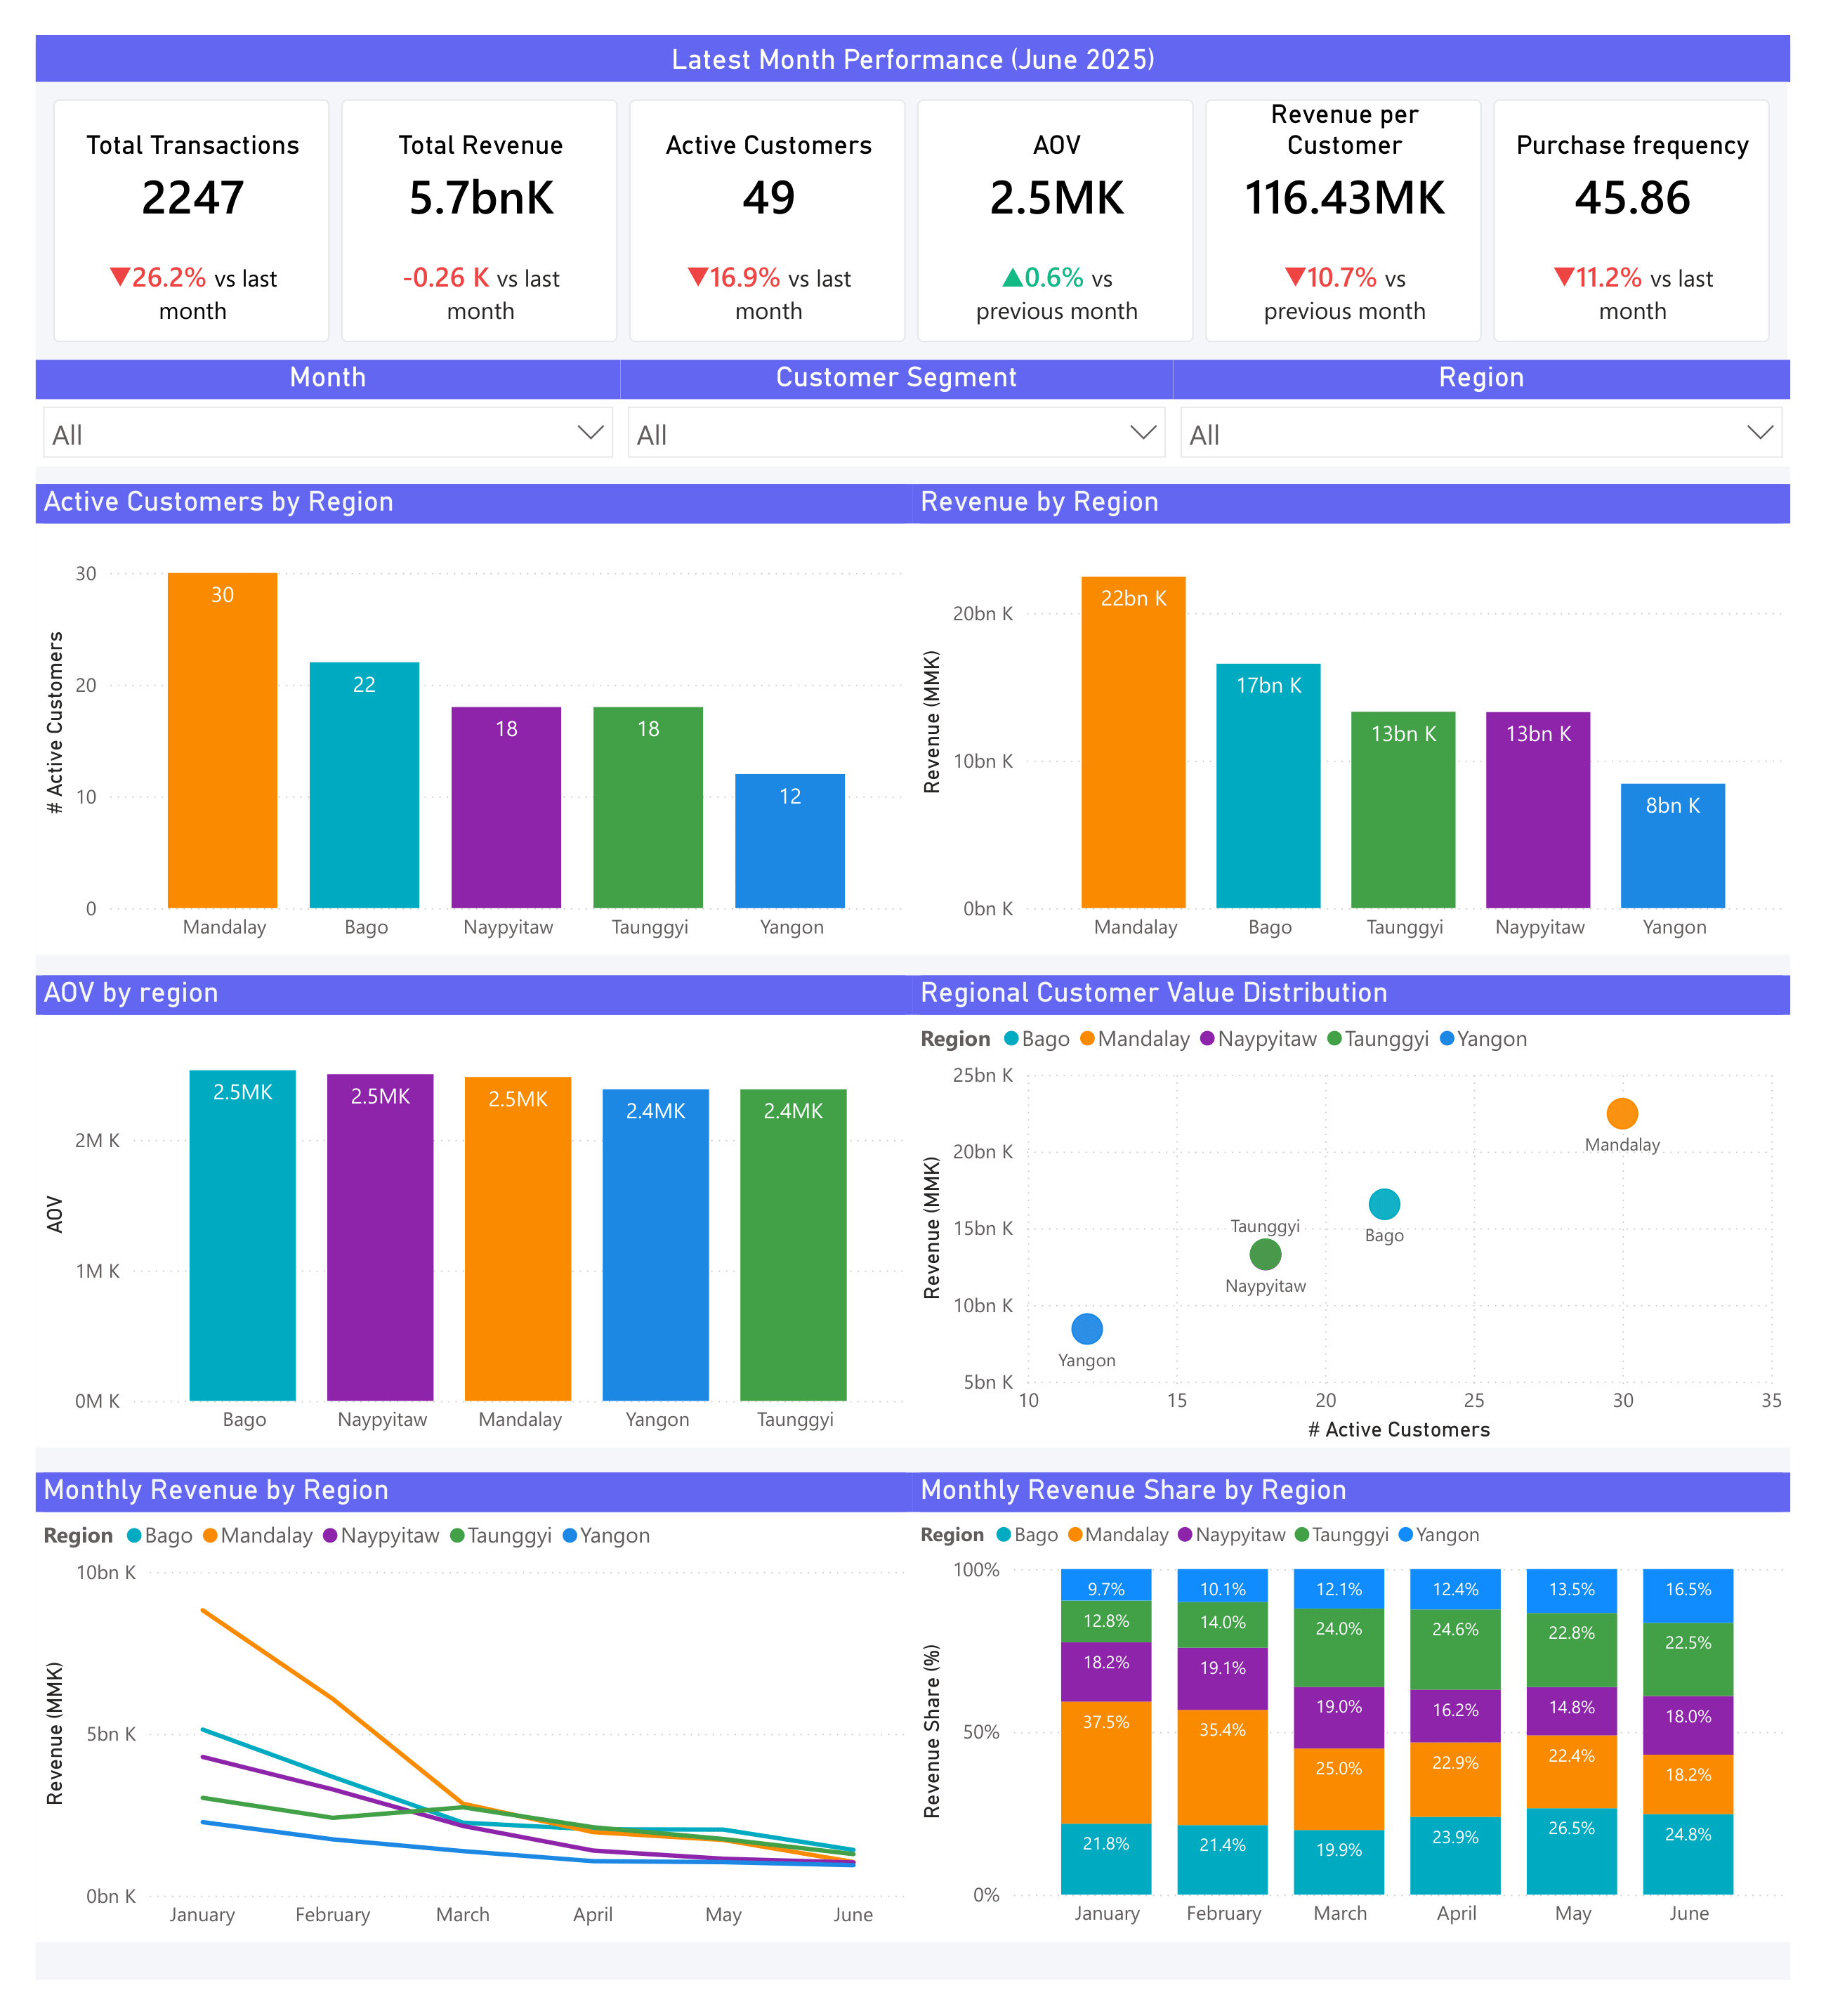

Layout of this report page (visuals, bound fields, positions):
{"tool":"powerbi","page":{"name":"Regional Performance","canvas":[1200,1330],"ordinal":1},"visuals":[{"type":"clusteredColumnChart","title":"Revenue by Region","fields":{"Y":["fact_transactions.Total revenue"],"Category":["dim_customers.region"]},"box":[600,307.1,600,321.7],"z":0},{"type":"clusteredColumnChart","title":"Active Customers by Region","fields":{"Category":["dim_customers.region"],"Y":["fact_transactions.Active customers"]},"box":[0,307.1,600,321.7],"z":1000},{"type":"lineChart","title":"Monthly Revenue by Region","fields":{"Y":["fact_transactions.Total revenue"],"Category":["dim_date.MonthName"],"Series":["dim_customers.region"]},"box":[0,982.7,600,321.7],"z":2000},{"type":"hundredPercentStackedColumnChart","title":"Monthly Revenue Share by Region","fields":{"Category":["dim_date.MonthName"],"Y":["fact_transactions.Total revenue"],"Series":["dim_customers.region"]},"box":[600,982.7,600,321.7],"z":3000},{"type":"scatterChart","title":"Regional Customer Value Distribution","fields":{"X":["fact_transactions.Active customers"],"Y":["fact_transactions.Total revenue"],"Series":["dim_customers.region"]},"box":[600,642.7,600,323.3],"z":4000},{"type":"cardVisual","title":"Latest Month Performance (June 2025)","fields":{"Data":["fact_transactions.Total transactions","fact_transactions.Total revenue","fact_transactions.Active customers","fact_transactions.AOV","fact_transactions.Revenue per Customer","fact_transactions.Purchase frequency"]},"box":[0,0,1200,221.7],"z":5000},{"type":"slicer","title":"Customer Segment","fields":{"Values":["dim_customers.segment_label"]},"box":[400,221.7,378.3,73.3],"z":6000},{"type":"slicer","title":"Month","fields":{"Values":["dim_date.MonthName"]},"box":[0,221.7,400,73.3],"z":7000},{"type":"slicer","title":"Region","fields":{"Values":["dim_customers.region"]},"box":[778.3,221.7,421.7,73.3],"z":8000},{"type":"clusteredColumnChart","fields":{"Category":["dim_customers.region"],"Y":["fact_transactions.AOV"]},"box":[0,642.7,600,323.3],"z":9000}]}

Visuals, with their boxes on the page's 1200x1330 design canvas (x1, y1, x2, y2). These are canvas units, not pixel positions in the 1826x2016 screenshot, which may show the page scaled, cropped or inside an application window:
"Revenue by Region" clusteredColumnChart: detection(600, 307, 1200, 629)
"Active Customers by Region" clusteredColumnChart: detection(0, 307, 600, 629)
"Monthly Revenue by Region" lineChart: detection(0, 983, 600, 1304)
"Monthly Revenue Share by Region" hundredPercentStackedColumnChart: detection(600, 983, 1200, 1304)
"Regional Customer Value Distribution" scatterChart: detection(600, 643, 1200, 966)
"Latest Month Performance (June 2025)" cardVisual: detection(0, 0, 1200, 222)
"Customer Segment" slicer: detection(400, 222, 778, 295)
"Month" slicer: detection(0, 222, 400, 295)
"Region" slicer: detection(778, 222, 1200, 295)
clusteredColumnChart - dim_customers.region x fact_transactions.AOV: detection(0, 643, 600, 966)
